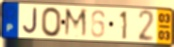1: (119, 10, 129, 40)
2: (137, 8, 156, 44)
6: (90, 9, 106, 39)
J: (21, 7, 39, 36)
M: (63, 7, 89, 40)
O: (40, 6, 63, 39)
